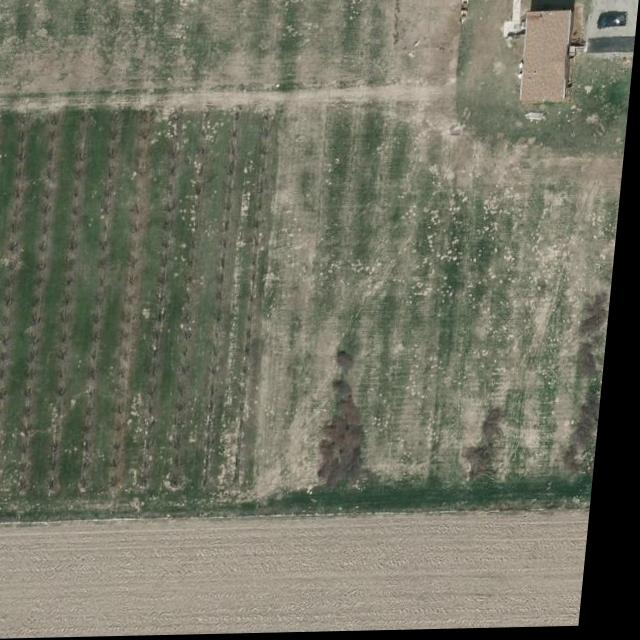vehicle: (598, 17, 629, 31)
